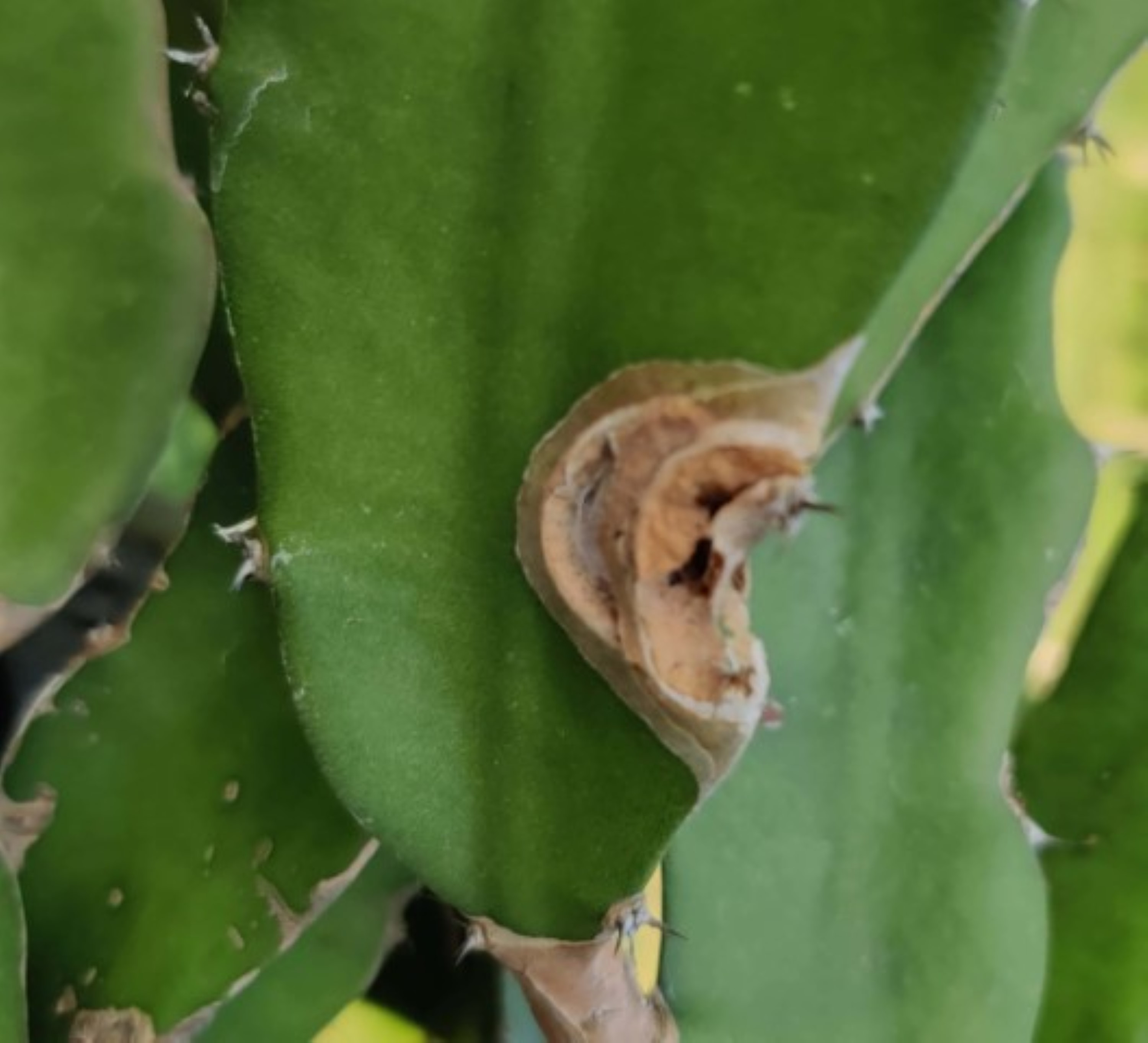stemcanker: (508, 358, 871, 793)
